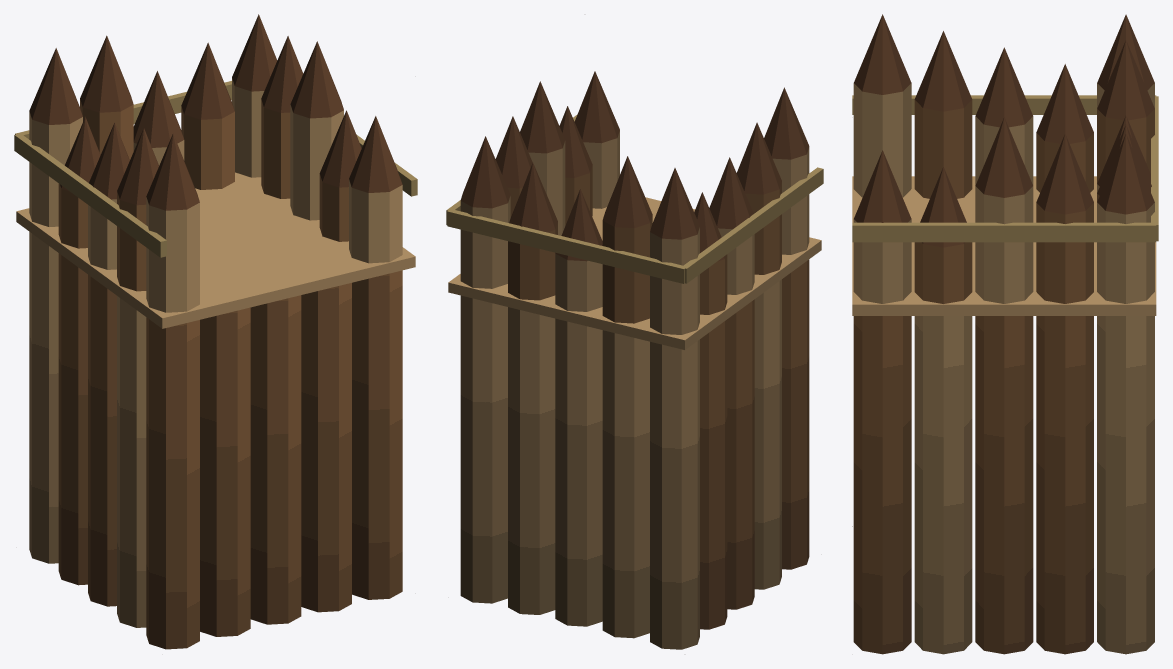
The model's file is perimeter_wall_wood_f4.glb.
3 renders of one model, left to right at view 1: azimuth 30°, elevation 25°; view 2: azimuth 150°, elevation 25°; view 3: azimuth 270°, elevation 25°, orthographic. The views are drawn at different scales.
Size of the model in its own units: 2.03 by 3.9 by 2.01.
1 material, 1 textured.
